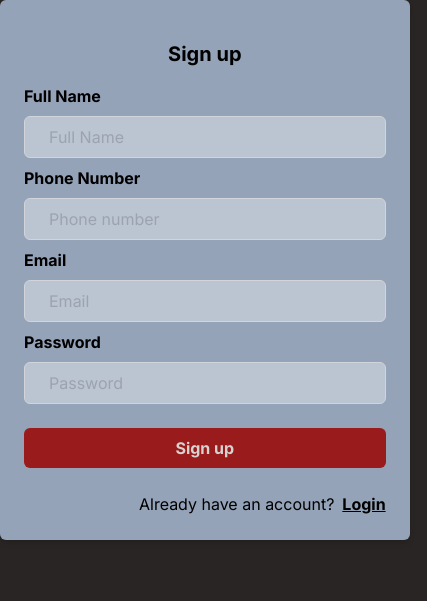
Test: it shows error message when user forgets an input
The width and height of the screenshot is (427, 601).
Type "weezt" into the field with placeholder "Full Name" at coordinates (205, 137), box [24, 116, 386, 158]
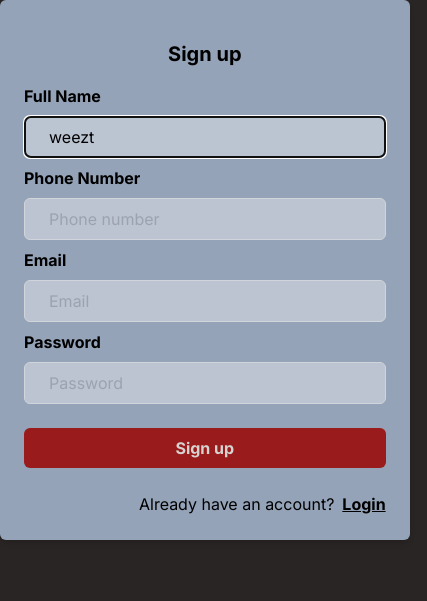
Click the button at coordinates (205, 448), box [24, 428, 386, 468]
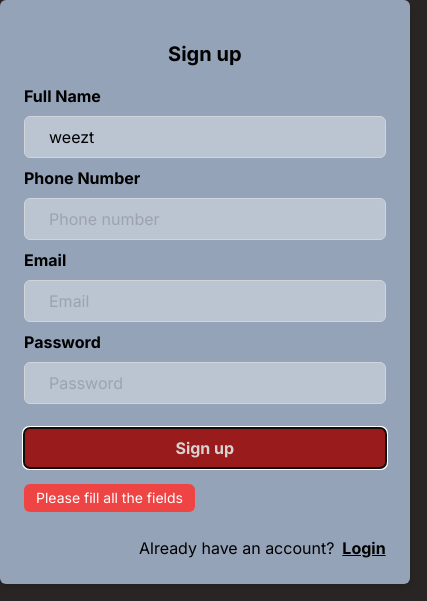
Now the text "Please fill all the fields" is shown, box [24, 484, 195, 512]
